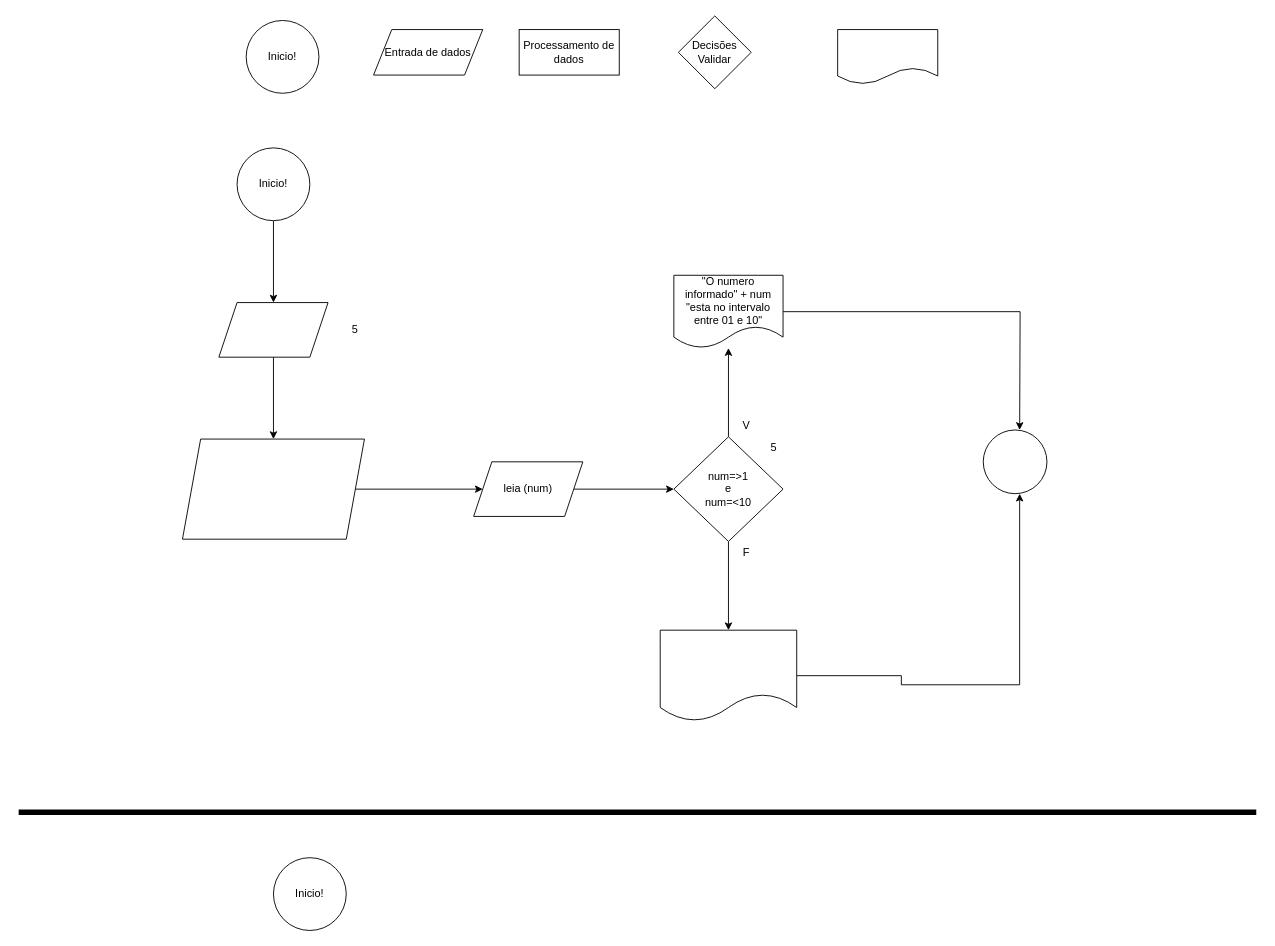
Some shapes in this 1275 by 946 pixel diagram are drawn without their labels. The centre of each missing label's shape, as x and y in pixels:
"O numero informado" + num " não esta no intervalo entre 01 e 10": the point at 728,675
Digite o numero entre 01 e 10:: the point at 273,488
fim: the point at 1014,461
real num: the point at 273,329
Saída de dados impressão: the point at 887,56
